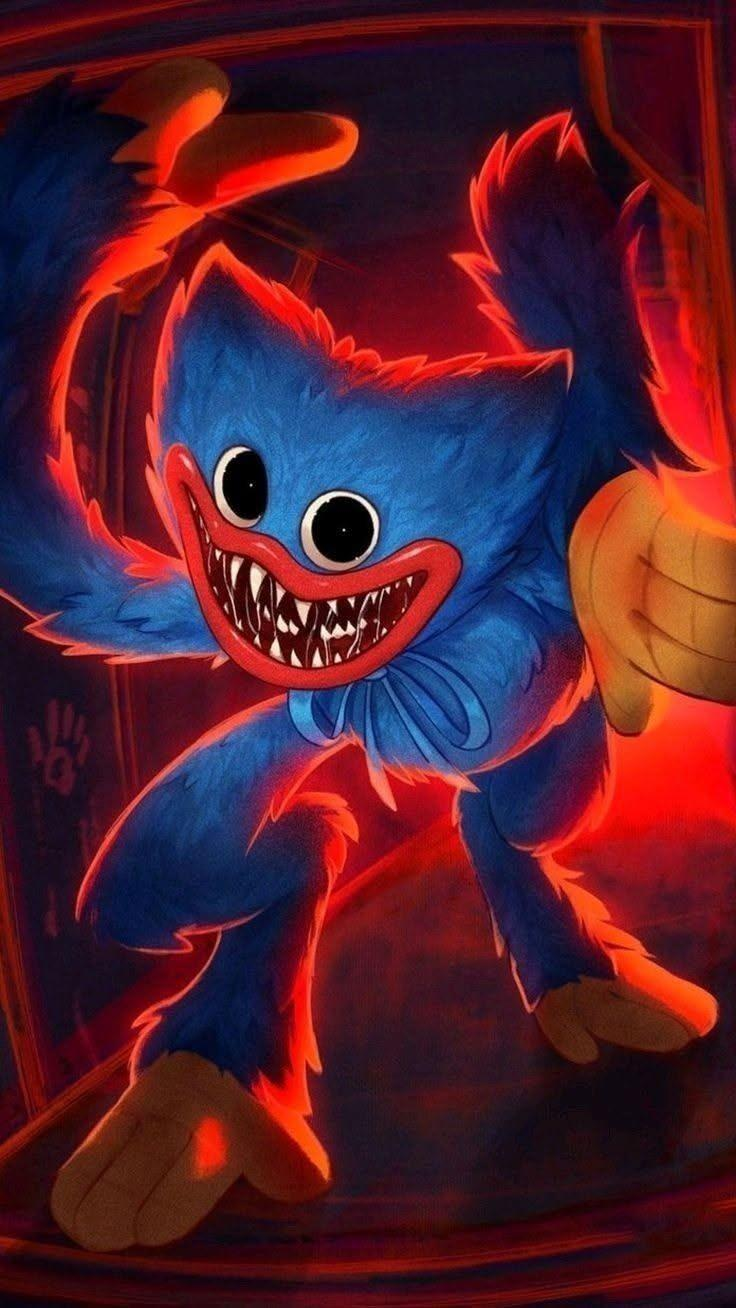non-dog: (0, 53, 736, 1259)
